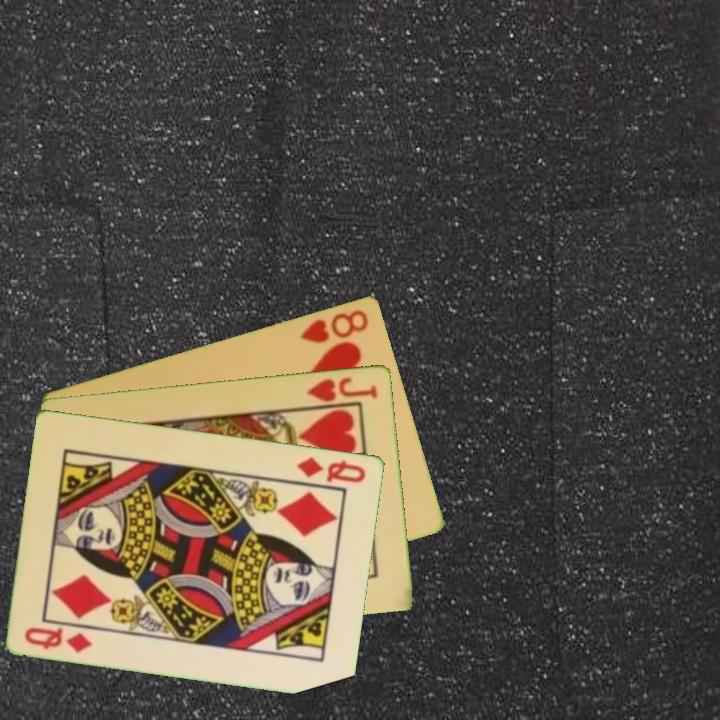8h: (296, 305, 372, 346)
Jh: (299, 373, 381, 410)
Qd: (294, 453, 369, 486), (21, 623, 96, 655)
